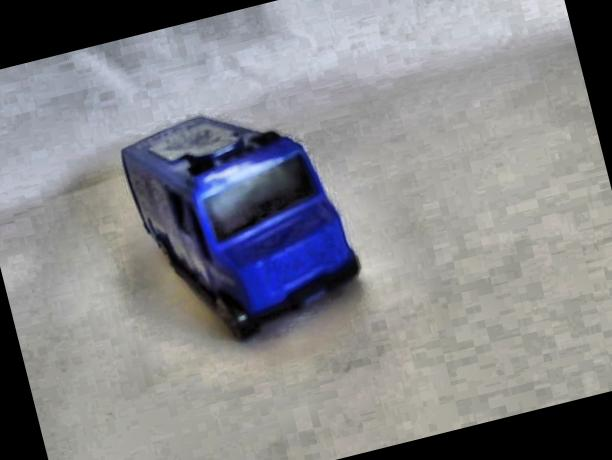police car: (116, 92, 377, 360)
